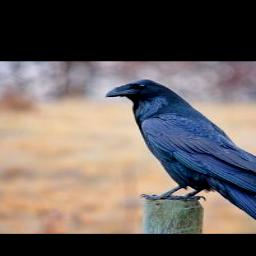Crow: (102, 77, 256, 233)
